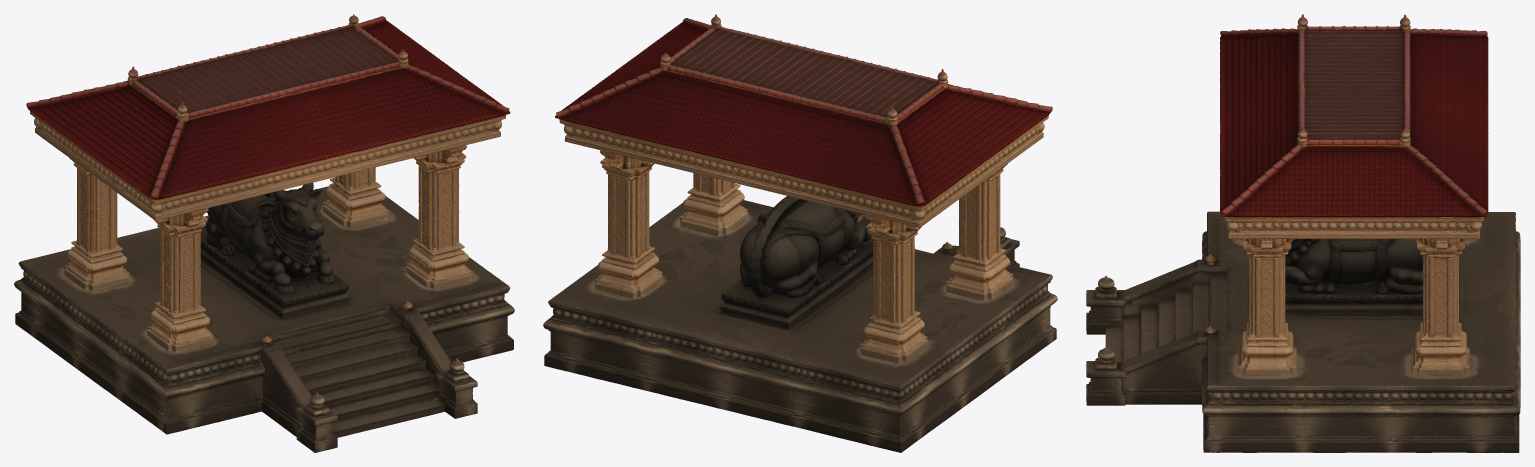
Rendered from nandi-hi.glb.
3 views of the same model, side by side, from view 1: azimuth 30°, elevation 25°; view 2: azimuth 150°, elevation 25°; view 3: azimuth 270°, elevation 25° (orthographic). The views are drawn at different scales.
Parts seen in each view (by area): view 1: tripo_node_16b73997-3212-407d-a541-d48e3df051c7; view 2: tripo_node_16b73997-3212-407d-a541-d48e3df051c7; view 3: tripo_node_16b73997-3212-407d-a541-d48e3df051c7.
Part boxes in pixels (left/top/right/bottom): tripo_node_16b73997-3212-407d-a541-d48e3df051c7: left=14, top=14, right=514, bottom=452; tripo_node_16b73997-3212-407d-a541-d48e3df051c7: left=543, top=14, right=1057, bottom=452; tripo_node_16b73997-3212-407d-a541-d48e3df051c7: left=1086, top=14, right=1520, bottom=452.
Size of the model in its own units: 0.976 by 0.7342 by 0.9798.
1 material, 1 textured.
